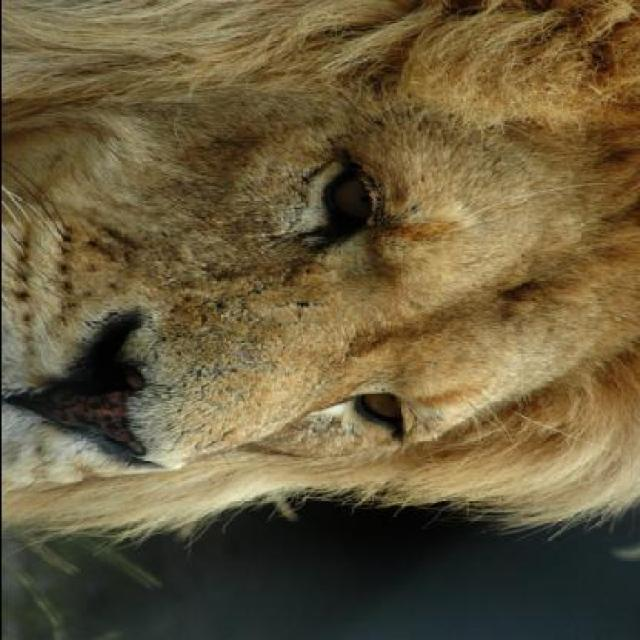Lion: (2, 2, 636, 566)
